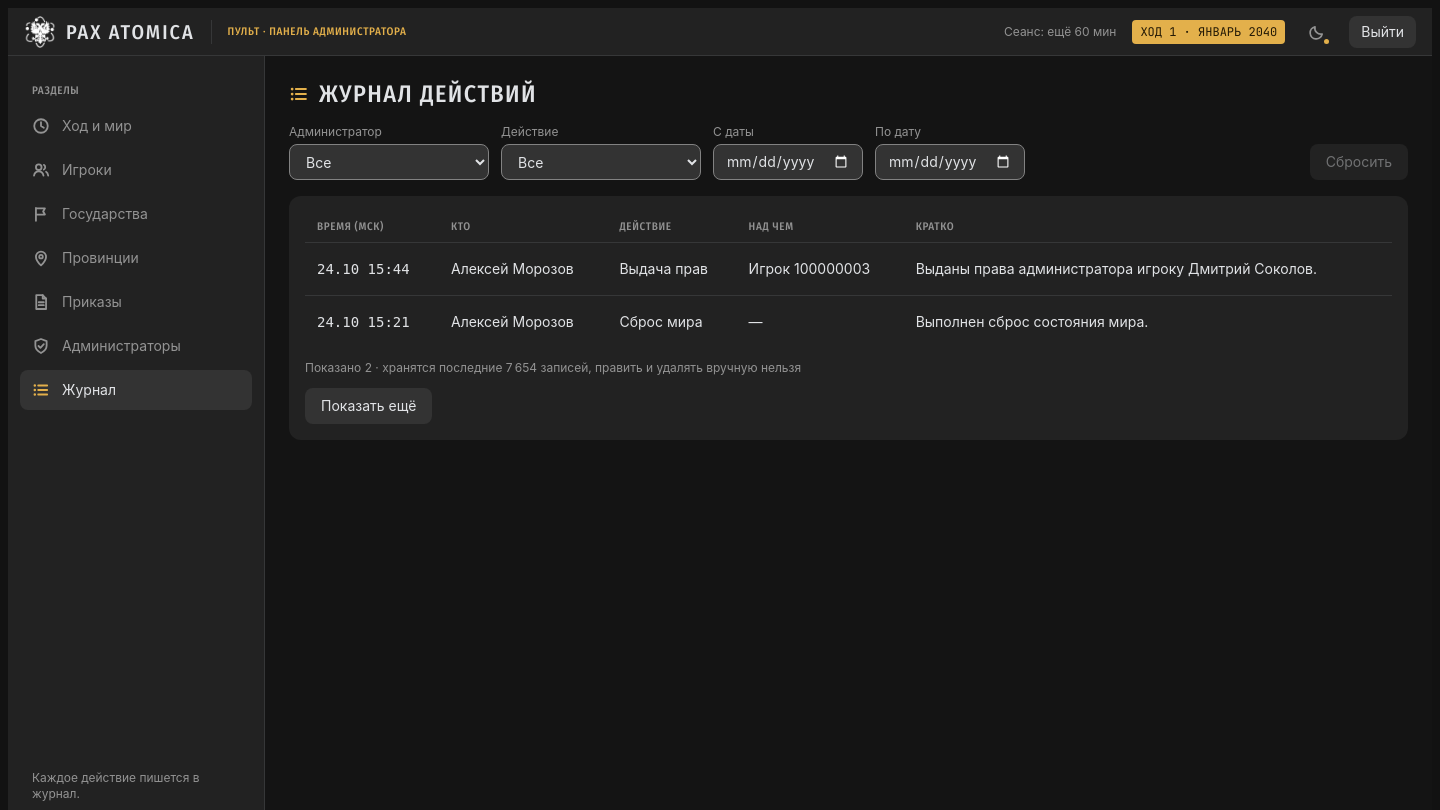
Test: «Журнал» section › «Показать ещё» walks the next_before_id cursor
Expected: the table with test id "log-table" is shown, [305,212,1392,348]
Click the button with test id "log-show-more" at (369, 406), box [305,388,432,424]
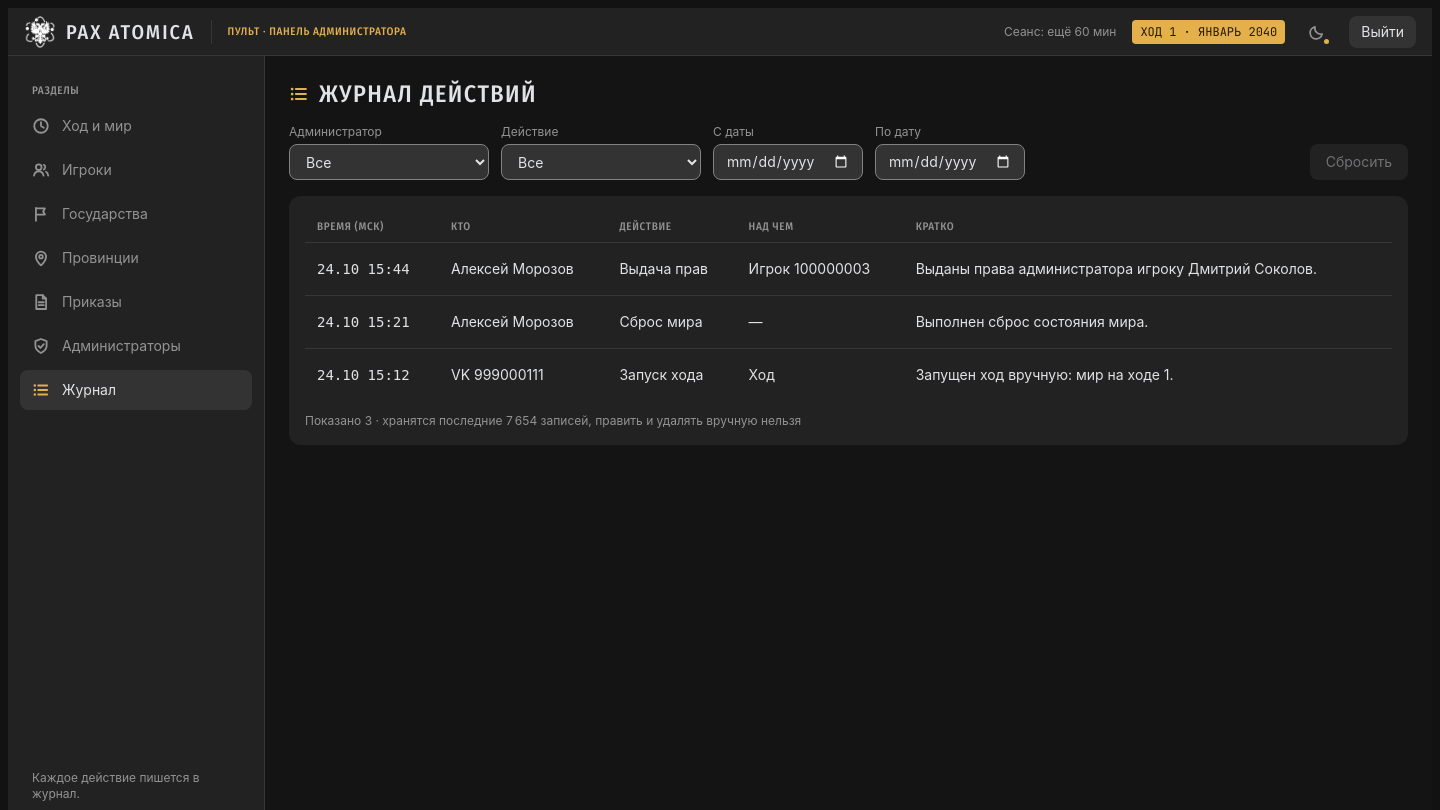
Expected: the text with test id "log-shown" shows "Показано 3", [305,413,801,428]
Expected: the table with test id "log-table" shows "VK 999000111", [451,366,544,383]
Expected: the button with test id "log-show-more" is gone
